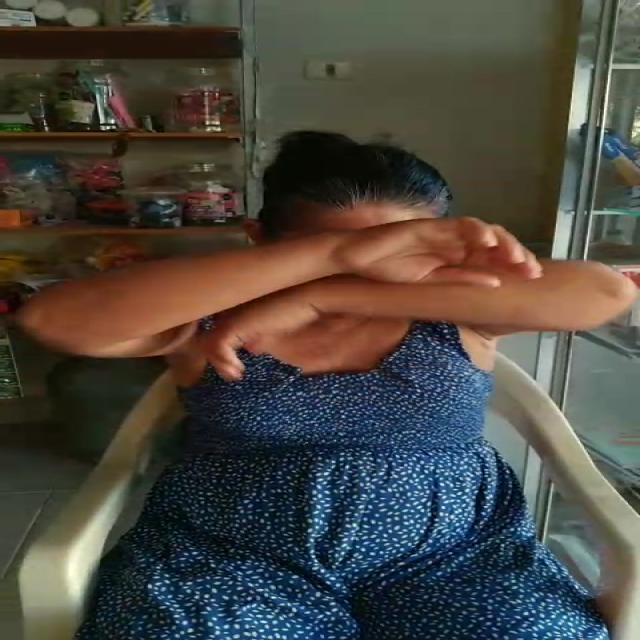7_mano_rostro: (271, 214, 495, 324)
